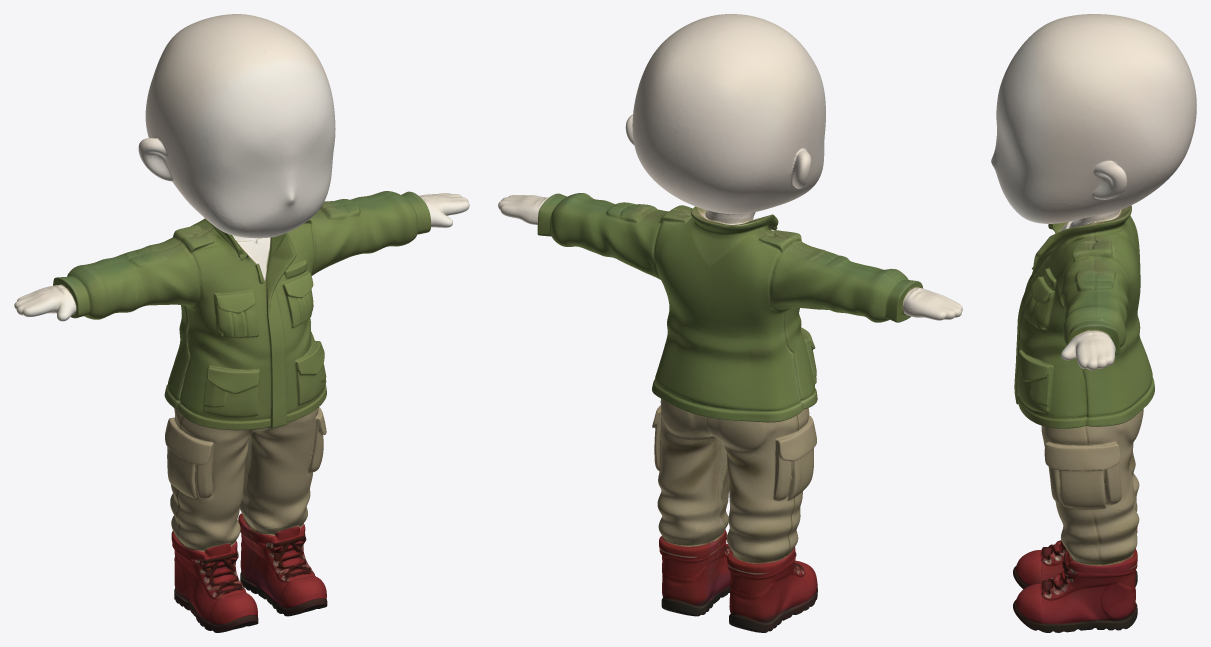
File: baked_noutfit_utility.glb
The picture shows the model from 3 angles, left to right: view 1: azimuth 30°, elevation 25°; view 2: azimuth 150°, elevation 25°; view 3: azimuth 270°, elevation 25°; orthographic projection. The views are drawn at different scales.
Size of the model in its own units: 1.56 by 1.9 by 0.6092.
1 material, 1 textured.
